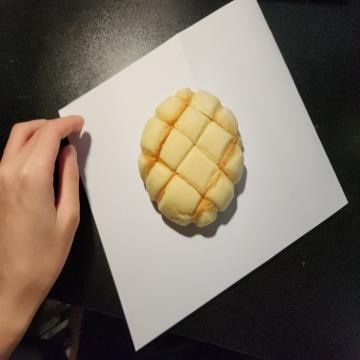melon_bread: (138, 89, 245, 230)
